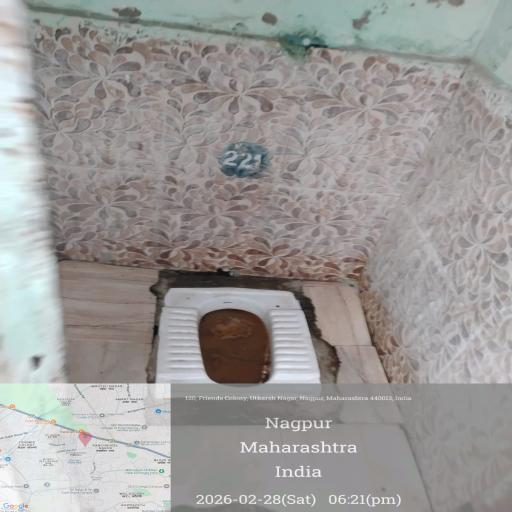dirty_indian: (144, 271, 350, 449)
partial_dirty_floor: (3, 0, 471, 264), (38, 423, 486, 512)
